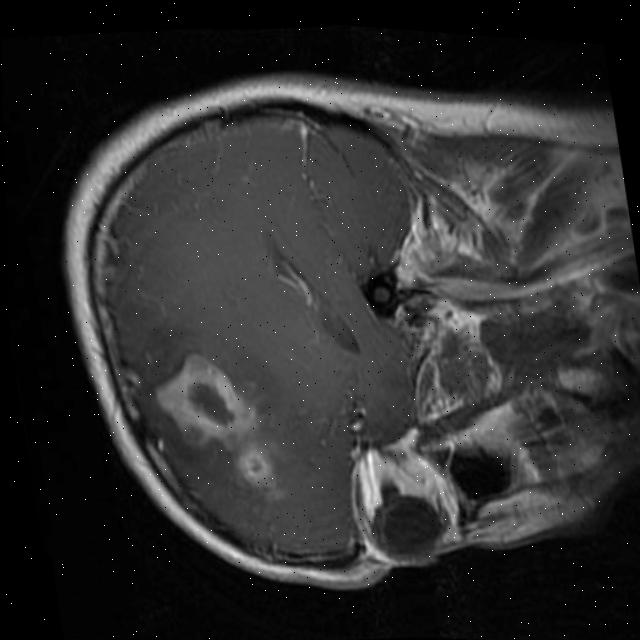Glioma: (145, 338, 263, 455), (233, 442, 274, 487)
